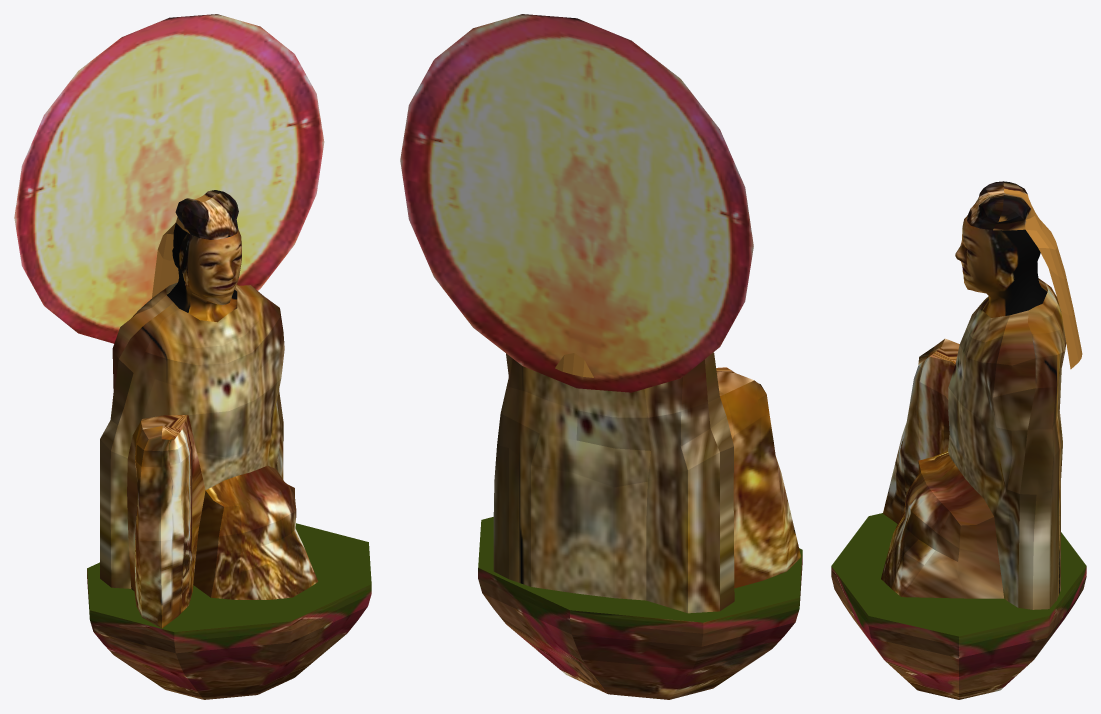
The model's file is guanin.fbx.
3 views of the same model, side by side, from view 1: azimuth 30°, elevation 25°; view 2: azimuth 150°, elevation 25°; view 3: azimuth 270°, elevation 25° (orthographic). The views are drawn at different scales.
Visible parts, largest first — view 1: pCylinder2, polySurface1, pCylinder1, CharacterMale:man, pSphere3; view 2: pCylinder2, polySurface1, pCylinder1; view 3: polySurface1, pCylinder1, CharacterMale:man, pSphere3.
Boxes of the visible parts, x1,y1,x2,y2 form: pCylinder2: (14, 14, 324, 343); polySurface1: (100, 282, 318, 628); pCylinder1: (87, 523, 371, 699); CharacterMale:man: (167, 223, 241, 322); pSphere3: (152, 190, 238, 297); pCylinder2: (400, 14, 753, 392); polySurface1: (493, 352, 800, 613); pCylinder1: (478, 517, 802, 699); polySurface1: (881, 278, 1066, 609); pCylinder1: (831, 513, 1086, 699); CharacterMale:man: (955, 215, 1047, 317); pSphere3: (967, 181, 1082, 369).
Bounding box in the file's own units: 6.69 × 12.68 × 4.61.
1 material, 1 textured.
